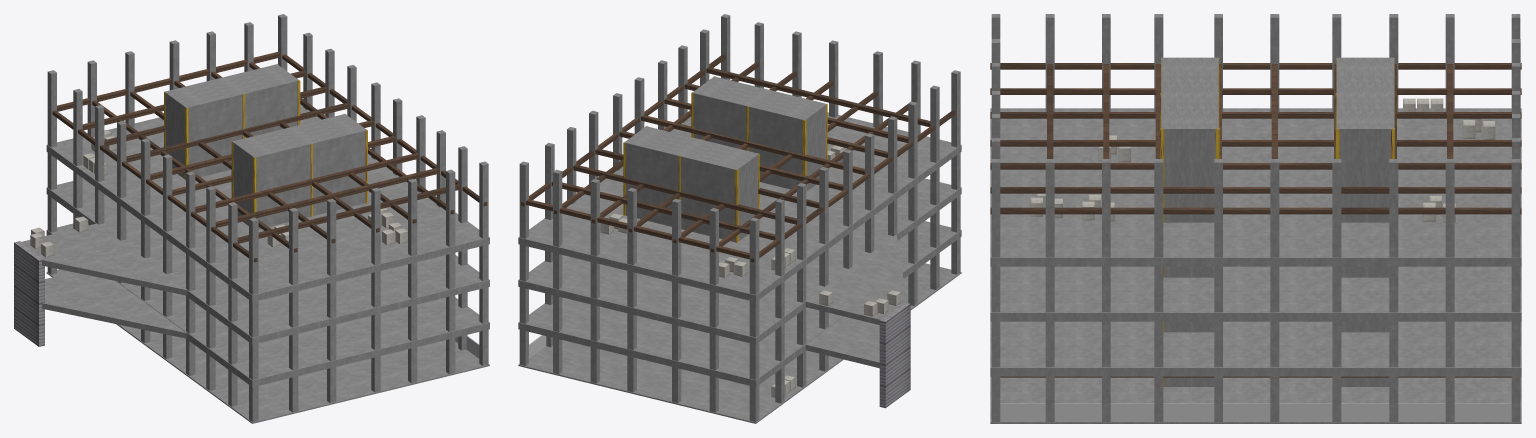
File: bldg.obj
The picture shows the model from 3 angles, left to right: view 1: azimuth 30°, elevation 25°; view 2: azimuth 150°, elevation 25°; view 3: azimuth 270°, elevation 25°; orthographic projection. The views are drawn at different scales.
Parts seen in each view (by area): view 1: Box144, Box045, Box138, Box158, Box157, Box168, Box166; view 2: Box144, Box045, Box138, Box157, Box158, Box168, Box166; view 3: Box144, Box045, Box138, Box158, Box157, Box159, Box166, Box160.
Boxes of the visible parts, bbox=[...] form: Box144: bbox=[21, 104, 489, 423]; Box045: bbox=[47, 14, 488, 422]; Box138: bbox=[52, 51, 487, 262]; Box158: bbox=[232, 114, 366, 229]; Box157: bbox=[164, 64, 299, 178]; Box168: bbox=[14, 241, 44, 346]; Box166: bbox=[164, 64, 367, 216]; Box144: bbox=[518, 112, 961, 423]; Box045: bbox=[519, 14, 960, 422]; Box138: bbox=[521, 54, 955, 262]; Box157: bbox=[624, 126, 758, 241]; Box158: bbox=[692, 76, 826, 191]; Box168: bbox=[879, 302, 910, 408]; Box166: bbox=[623, 76, 827, 242]; Box144: bbox=[990, 108, 1521, 423]; Box045: bbox=[991, 14, 1520, 421]; Box138: bbox=[990, 63, 1521, 214]; Box158: bbox=[1161, 57, 1218, 386]; Box157: bbox=[1336, 57, 1394, 386]; Box159: bbox=[1000, 403, 1511, 421]; Box166: bbox=[1160, 58, 1394, 386]; Box160: bbox=[1000, 376, 1511, 377].
Bounding box in the file's own units: 26.83 × 16.25 × 30.
